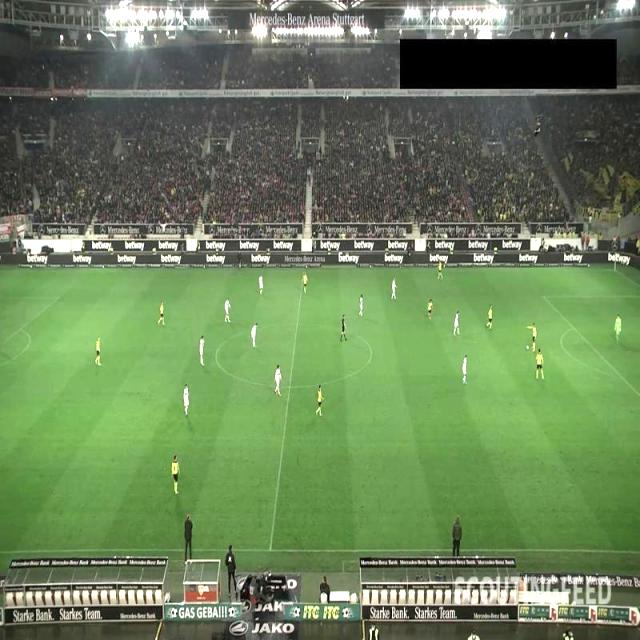bigarea_top_inner: (538, 291, 549, 302), (53, 294, 64, 303)
bottom_arc_area_intersection: (616, 373, 628, 384)
corner: (610, 265, 620, 276)
halfcircle_bottom: (284, 382, 295, 392)
halfcircle_top: (292, 320, 303, 330)
midline_bottom_intersection: (262, 542, 278, 557)
midline_top_intersection: (301, 267, 309, 276)
top_arc_area_intersection: (16, 324, 27, 334), (570, 324, 581, 334)
